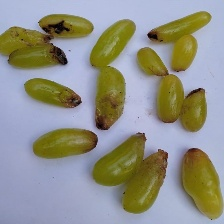grapes: (0, 24, 188, 159)
